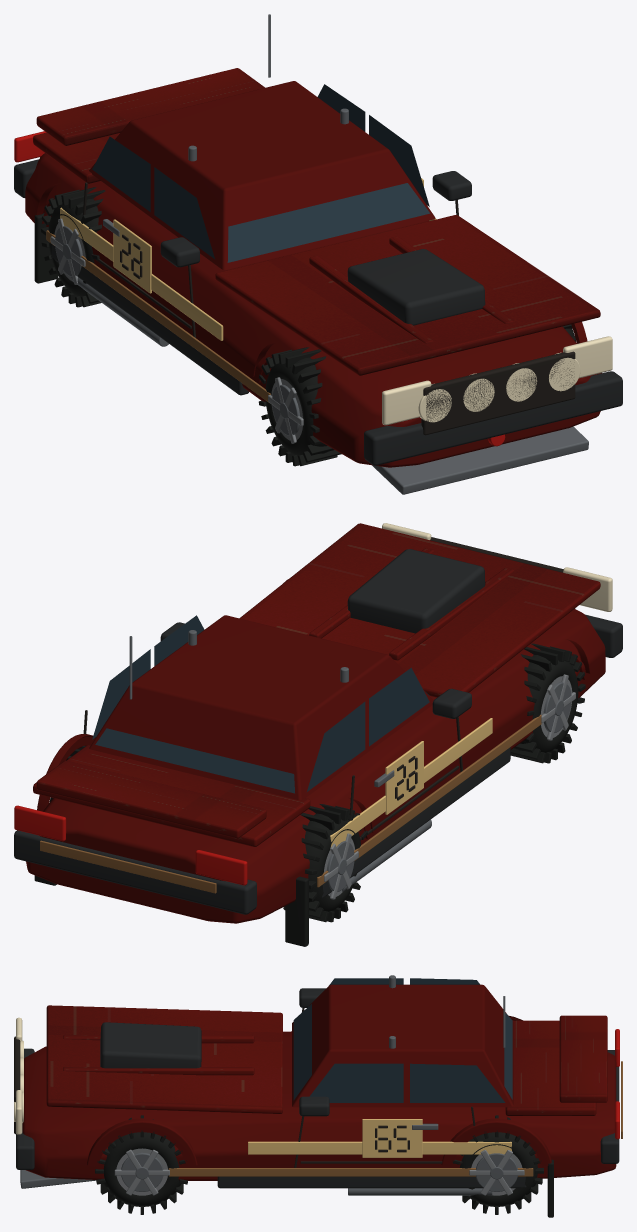
Rendered from desert_stallion_65_v2.glb.
The picture shows the model from 3 angles, top to bottom: view 1: azimuth 30°, elevation 25°; view 2: azimuth 150°, elevation 25°; view 3: azimuth 270°, elevation 25°; orthographic projection. The views are drawn at different scales.
Parts seen in each view (by area): view 1: STATIC_V2_Paint_Textured, STATIC_V2_Plastic, STATIC_V2_Glass_Windshield, STATIC_V2_Door_Gap, STATIC_V2_Steel, STATIC_V2_Lamp, Wheel_FL_V2_Rubber, STATIC_V2_Livery_Cream, Wheel_RL_V2_Rubber, STATIC_V2_Dust, STATIC_V2_Rubber, Wheel_FL_V2_Alloy (+4 smaller); view 2: STATIC_V2_Paint_Textured, STATIC_V2_Plastic, STATIC_V2_Glass_Windshield, STATIC_V2_Dust, Wheel_FL_V2_Rubber, STATIC_V2_Livery_Cream, Wheel_RL_V2_Rubber, STATIC_V2_Tail, STATIC_V2_Door_Gap, STATIC_V2_Steel, STATIC_V2_Rubber, STATIC_V2_Lamp (+4 smaller); view 3: STATIC_V2_Paint_Textured, STATIC_V2_Plastic, STATIC_V2_Glass_Windshield, STATIC_V2_Livery_Cream, Wheel_FR_V2_Rubber, STATIC_V2_Dust, Wheel_RR_V2_Rubber, STATIC_V2_Steel, STATIC_V2_Door_Gap, Wheel_FR_V2_Alloy, Wheel_RR_V2_Alloy, Wheel_FR_V2_Steel (+4 smaller).
Boxes of the visible parts, <box> form: STATIC_V2_Paint_Textured: <box>25,68,601,467</box>; STATIC_V2_Plastic: <box>14,159,622,465</box>; STATIC_V2_Glass_Windshield: <box>92,84,430,262</box>; STATIC_V2_Door_Gap: <box>82,182,575,435</box>; STATIC_V2_Steel: <box>71,14,588,494</box>; STATIC_V2_Lamp: <box>382,336,612,425</box>; Wheel_FL_V2_Rubber: <box>258,347,341,466</box>; STATIC_V2_Livery_Cream: <box>60,178,436,340</box>; Wheel_RL_V2_Rubber: <box>41,187,105,307</box>; STATIC_V2_Dust: <box>40,157,270,403</box>; STATIC_V2_Rubber: <box>34,213,58,283</box>; Wheel_FL_V2_Alloy: <box>268,377,303,443</box>; STATIC_V2_Paint_Textured: <box>26,523,605,923</box>; STATIC_V2_Plastic: <box>14,549,622,914</box>; STATIC_V2_Glass_Windshield: <box>92,615,429,793</box>; STATIC_V2_Dust: <box>40,714,541,893</box>; Wheel_FL_V2_Rubber: <box>510,643,585,763</box>; STATIC_V2_Livery_Cream: <box>330,718,492,846</box>; Wheel_RL_V2_Rubber: <box>283,804,367,922</box>; STATIC_V2_Tail: <box>14,805,247,885</box>; STATIC_V2_Door_Gap: <box>83,537,575,839</box>; STATIC_V2_Steel: <box>129,630,431,891</box>; STATIC_V2_Rubber: <box>34,875,308,946</box>; STATIC_V2_Lamp: <box>382,523,612,611</box>; STATIC_V2_Paint_Textured: <box>22,984,616,1180</box>; STATIC_V2_Plastic: <box>16,988,619,1188</box>; STATIC_V2_Glass_Windshield: <box>293,978,512,1102</box>; STATIC_V2_Livery_Cream: <box>248,1119,511,1157</box>; Wheel_FR_V2_Rubber: <box>95,1115,187,1214</box>; STATIC_V2_Dust: <box>168,1061,622,1176</box>; Wheel_RR_V2_Rubber: <box>452,1115,543,1214</box>; STATIC_V2_Steel: <box>20,975,505,1195</box>; STATIC_V2_Door_Gap: <box>14,1008,476,1167</box>; Wheel_FR_V2_Alloy: <box>114,1148,169,1195</box>; Wheel_RR_V2_Alloy: <box>469,1150,524,1195</box>; Wheel_FR_V2_Steel: <box>121,1152,163,1191</box>.
Bounding box in the file's own units: 2.22 × 1.71 × 4.84.
11 materials, 1 textured.
